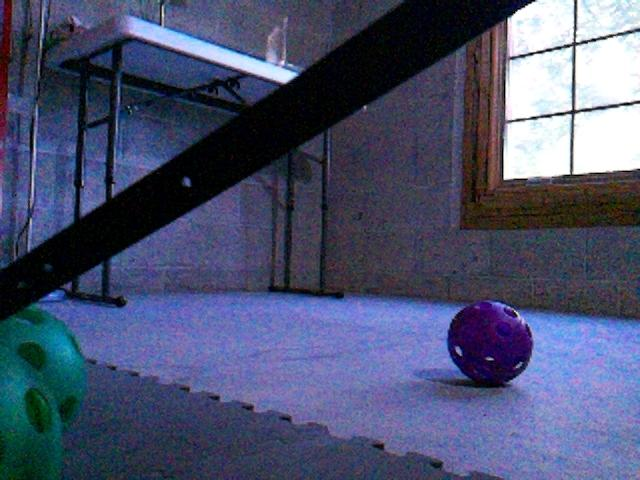Green: (0, 305, 85, 436), (0, 340, 61, 478)
Purple: (446, 299, 533, 385)
